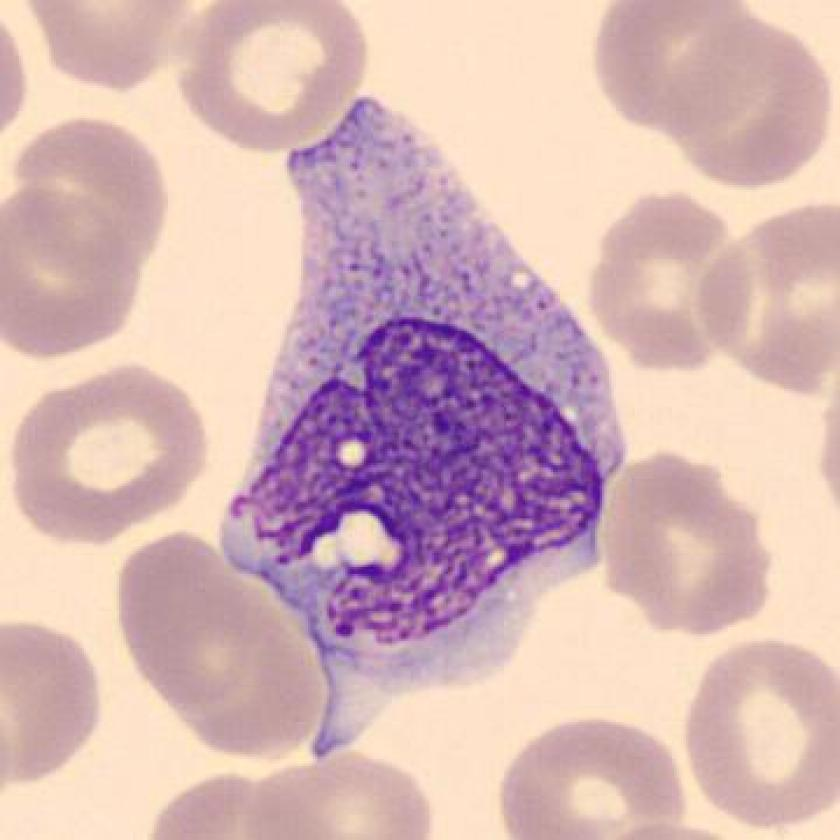monocyte: (207, 78, 648, 779)
